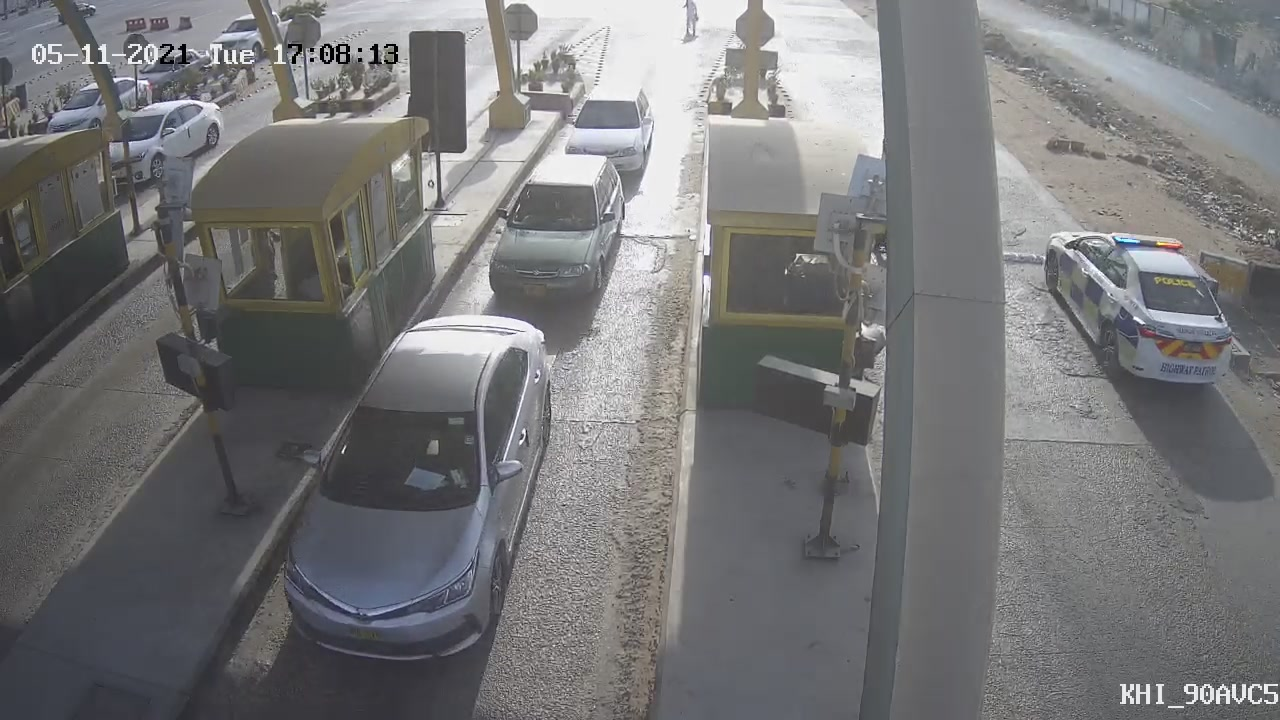F1: (470, 138, 643, 330), (550, 73, 664, 190)
